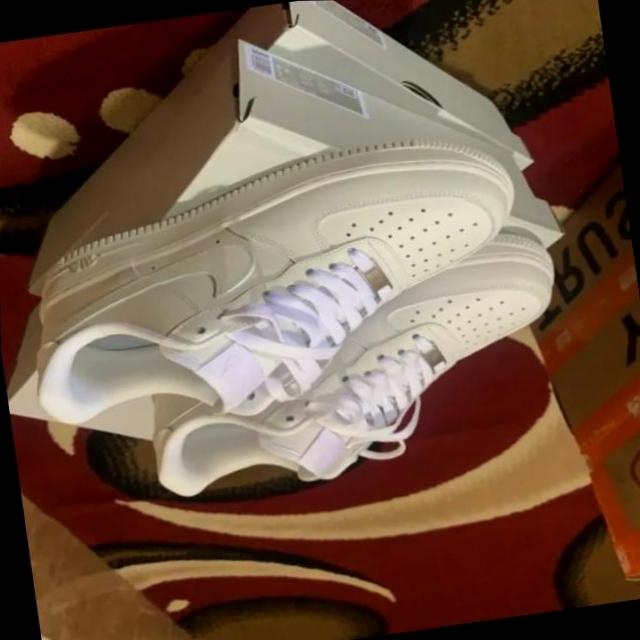nike_original_airforce: (11, 118, 543, 443), (131, 225, 583, 504)
